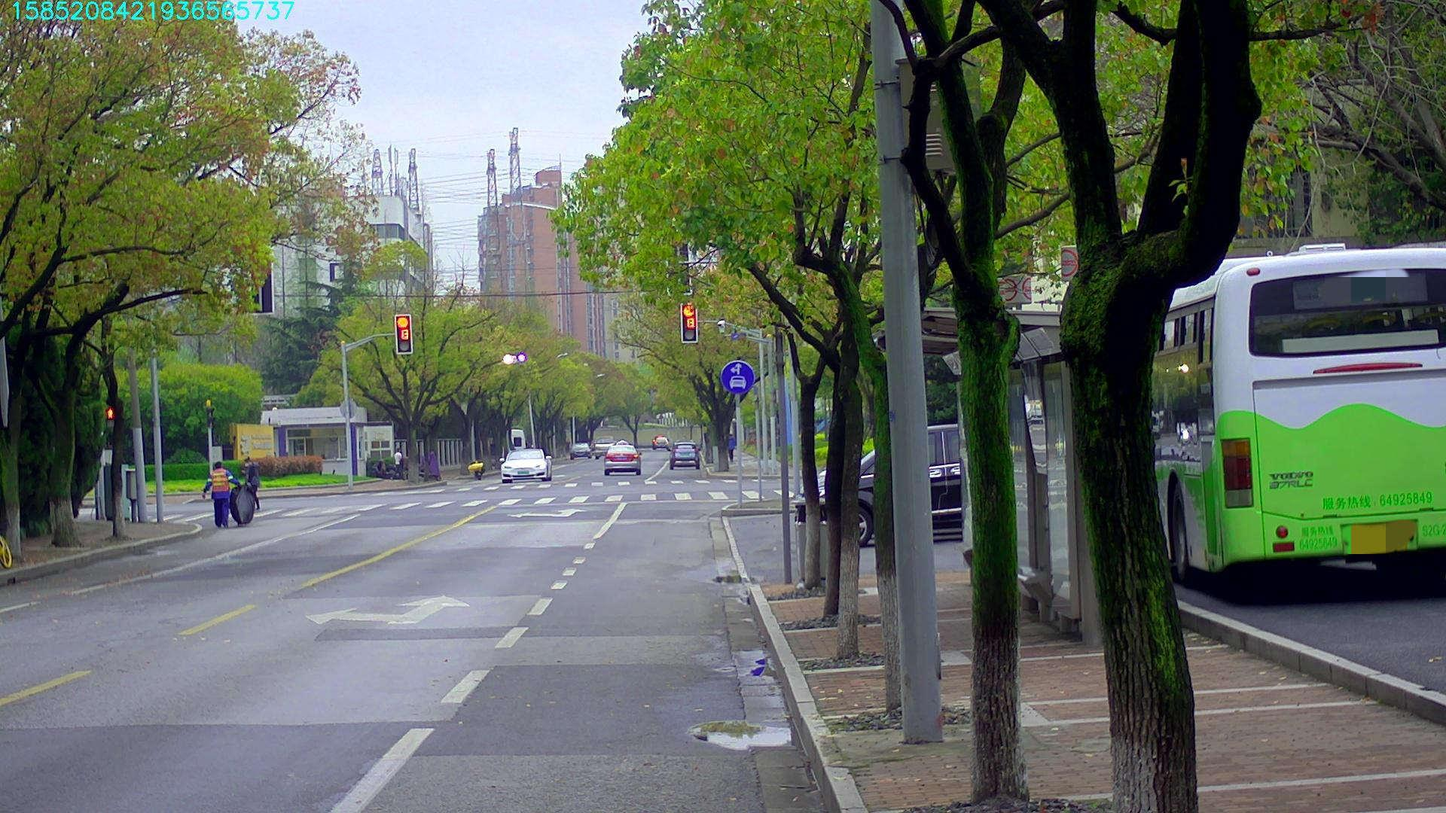red: (681, 303, 697, 341), (395, 315, 410, 352)
